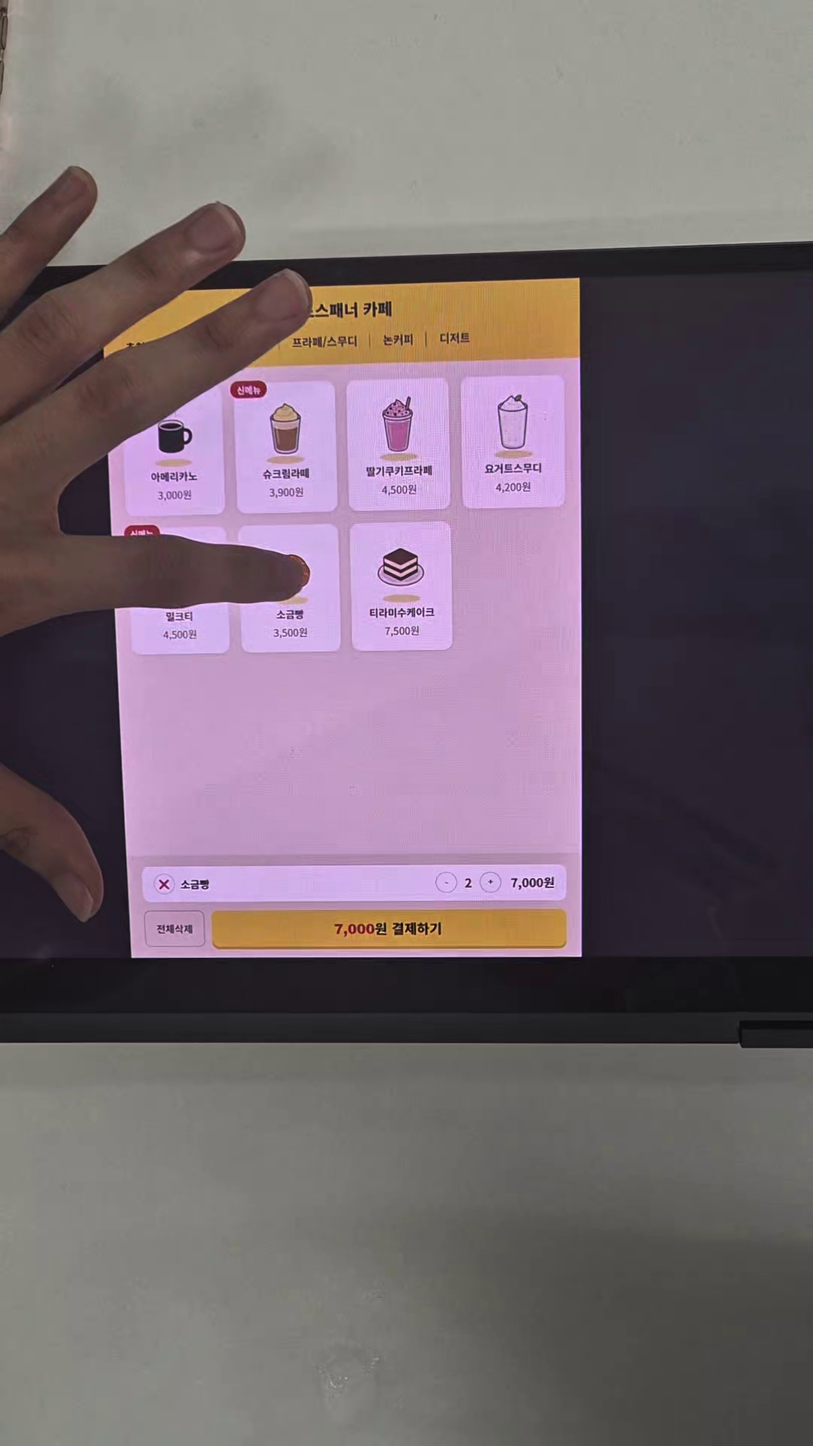action_button: (212, 909, 566, 949), (145, 910, 204, 947)
cart_item: (142, 865, 566, 902)
category_tab: (290, 333, 359, 350), (381, 331, 414, 347), (439, 330, 471, 345)
menu_back: (460, 375, 565, 510), (121, 385, 226, 518), (346, 378, 450, 512), (234, 381, 338, 514), (349, 521, 453, 651), (128, 526, 231, 656), (238, 523, 341, 653)
menu_name: (364, 464, 433, 478), (368, 606, 435, 619), (149, 469, 199, 485), (483, 462, 543, 475), (261, 467, 310, 481), (274, 608, 305, 622), (164, 610, 195, 623)
menu_price: (161, 628, 198, 642), (272, 626, 308, 640), (380, 483, 418, 496), (494, 481, 532, 494), (156, 489, 193, 502), (383, 625, 420, 638), (268, 486, 304, 499)
